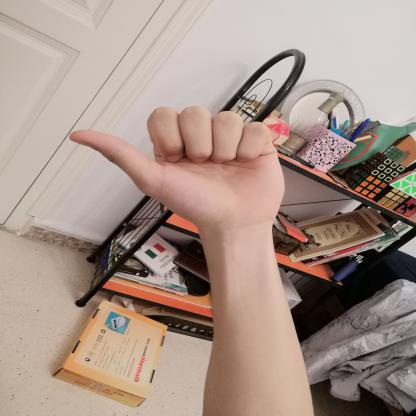DAD: (54, 97, 297, 235)
